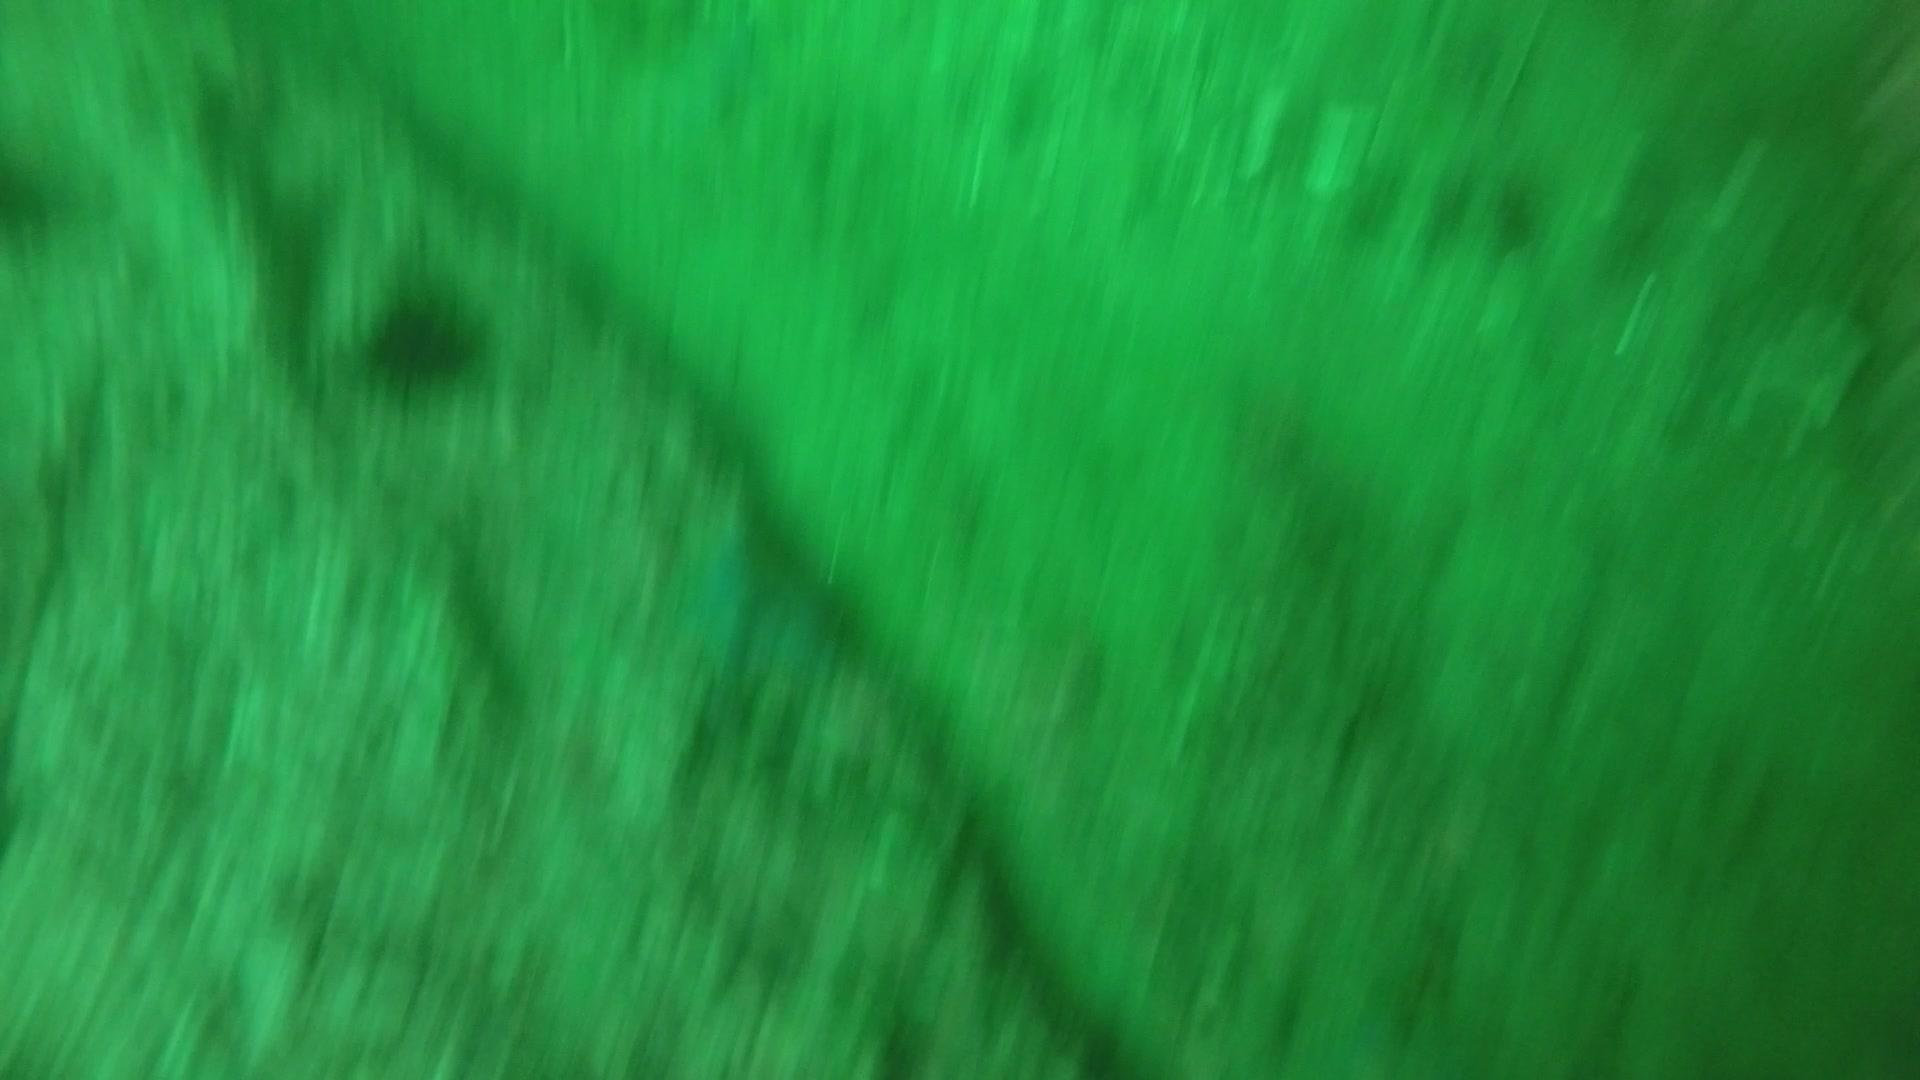echinus: (353, 278, 493, 396), (0, 138, 75, 256)
starfish: (651, 487, 862, 683)
